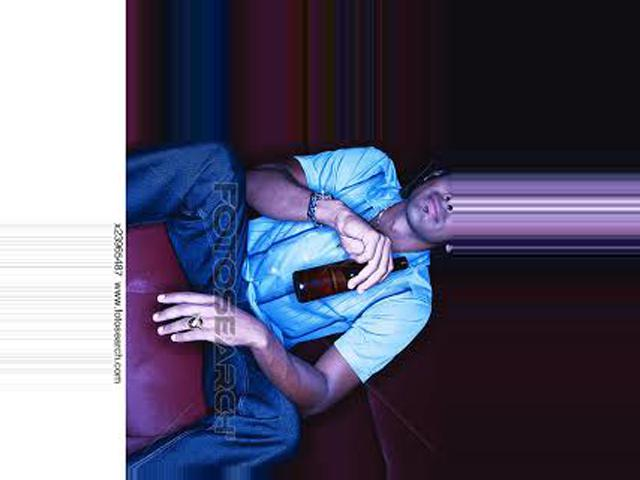beer: (292, 256, 408, 304)
